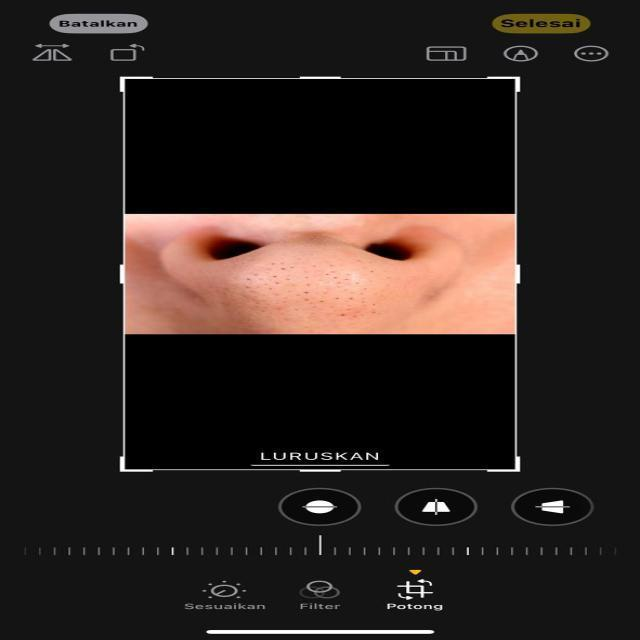blackhead: (217, 259, 390, 319)
